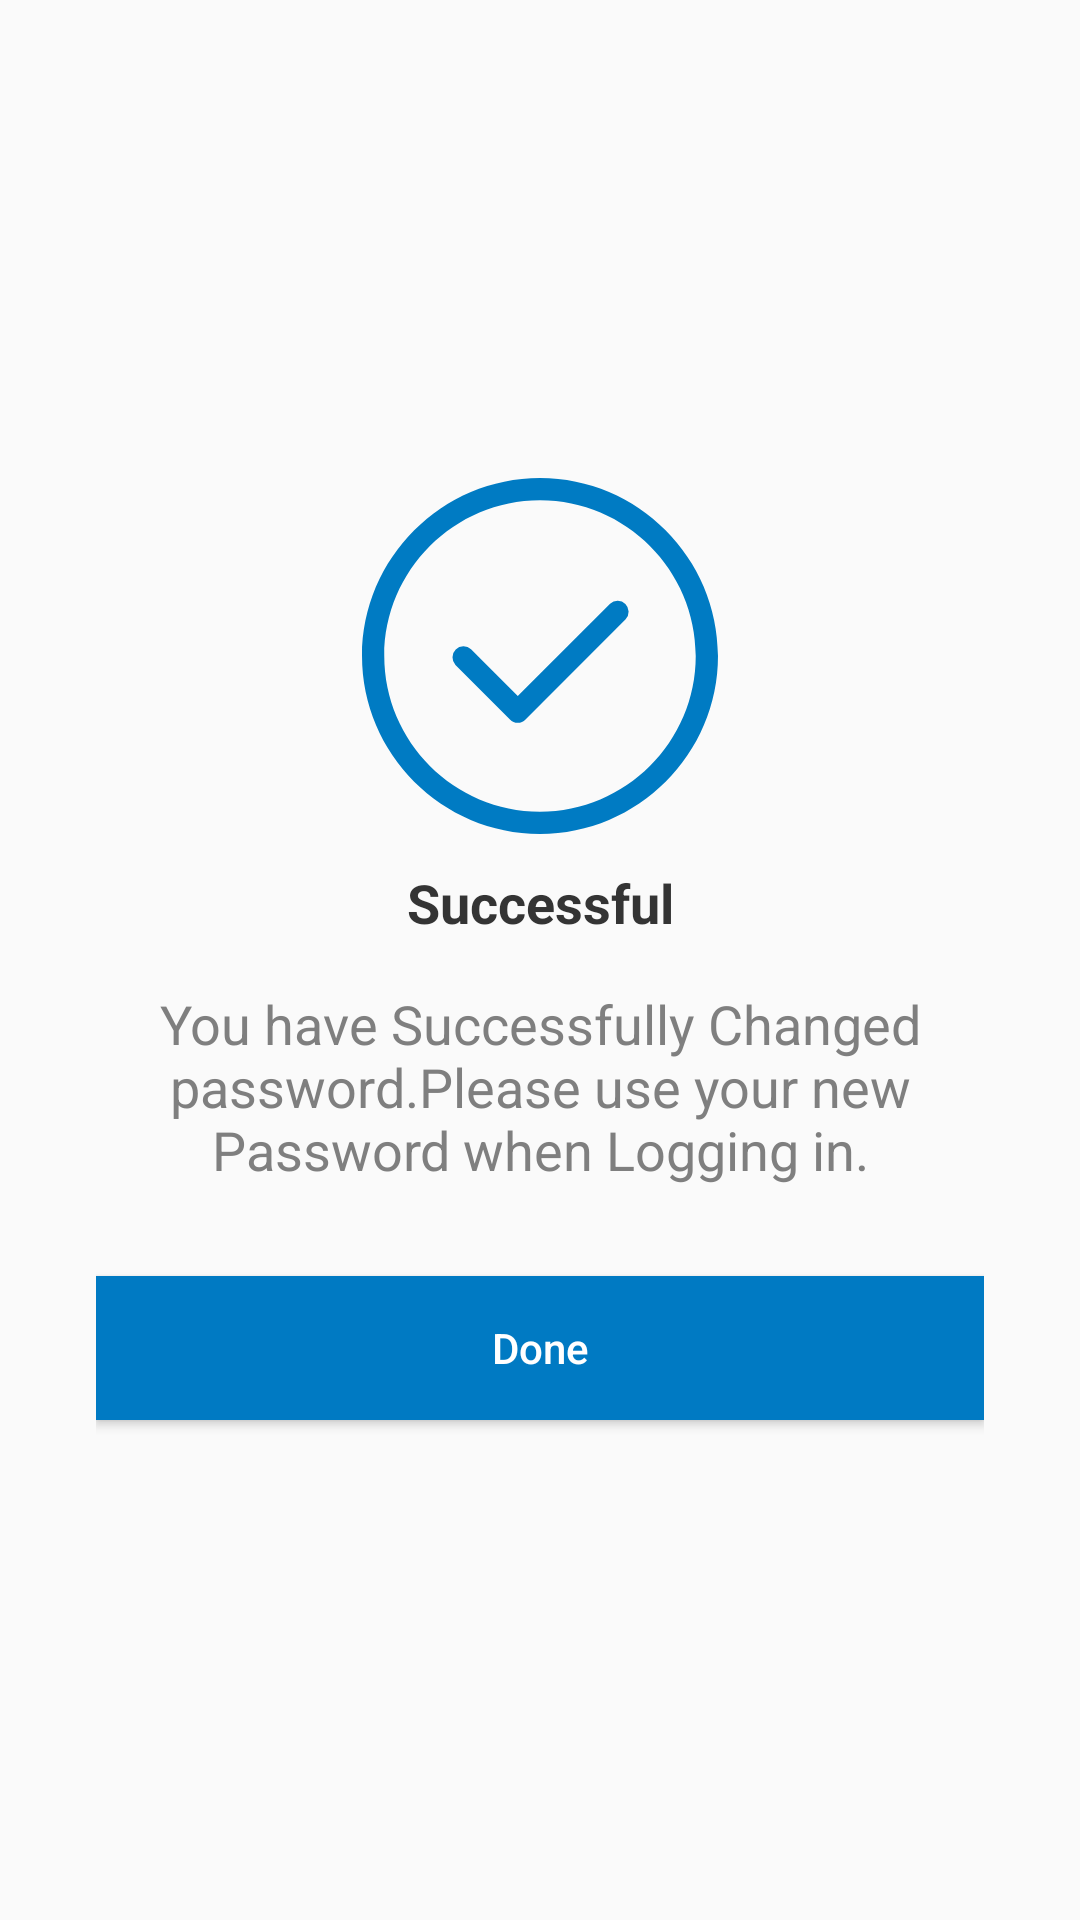

Icon bounding boxes for this 1080 x 1920 phone screenshot, format (x1,y1,x2,y2):
confirm: (362,478,718,834)
